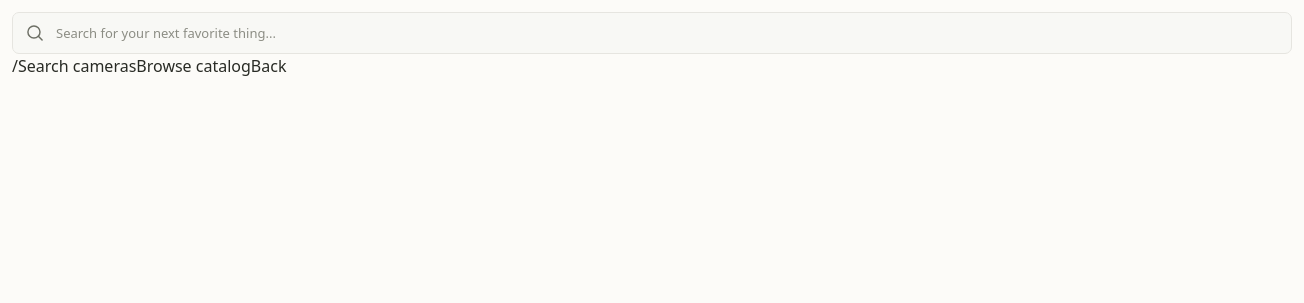
ProductSearchBar › debounces suggestions and lets the keyboard choose an accessible product option
This screenshot has width=1304, height=303.
Type "headphones" into the dropdown named "Search products" at (674, 33), box [56,13,1291,53]
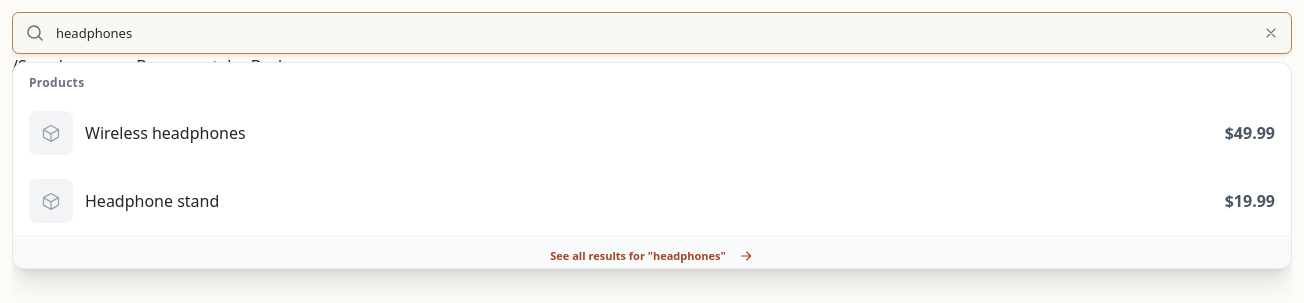
Press Arrowup
Press Arrowdown
Press Enter
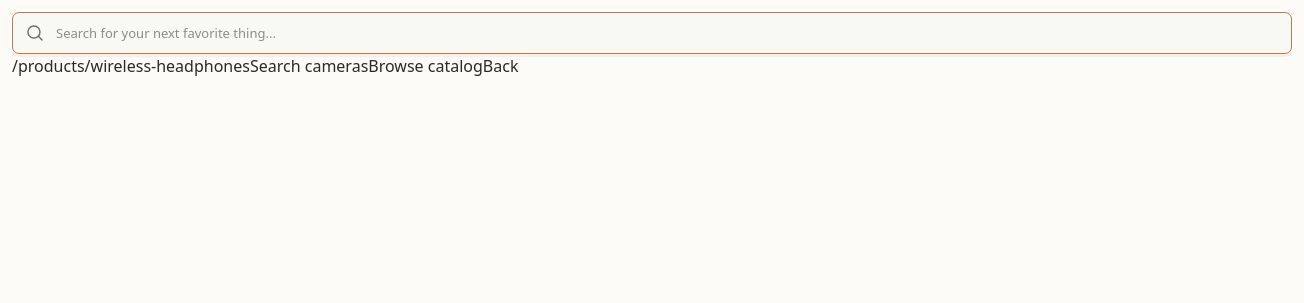
Expected: the text named "Current route" reads "/products/wireless-headphones", [12,55,250,77]
Expected: the list is gone
